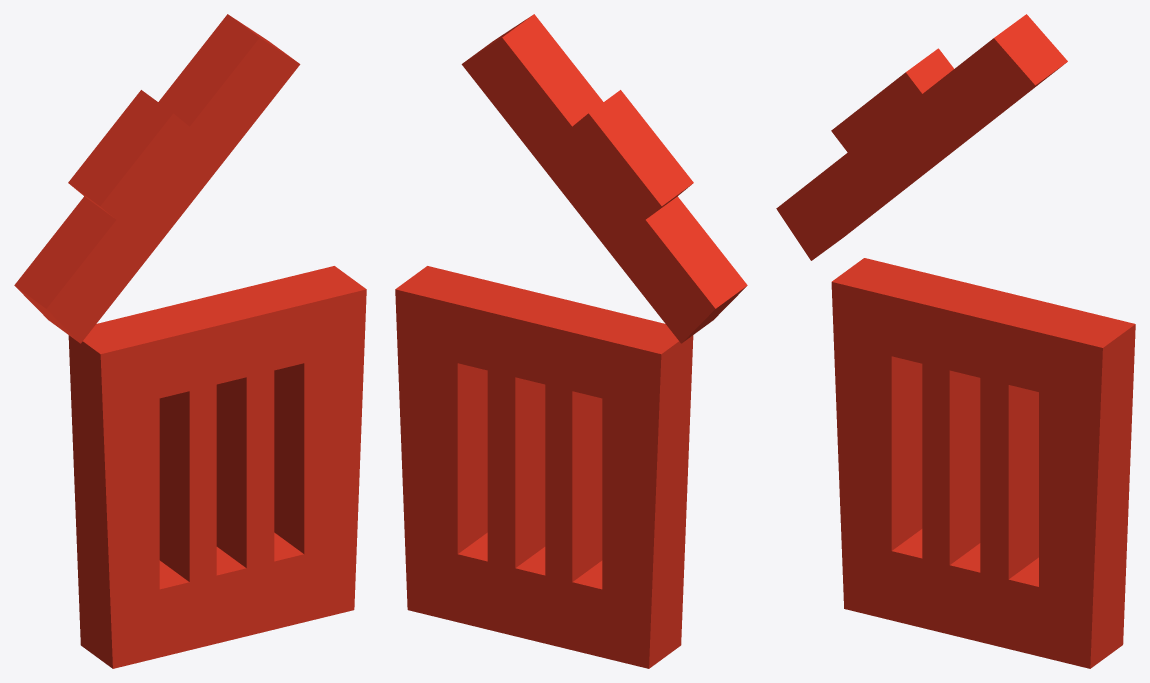
Rendered from Icon_Rubbish_04.fbx.
3 renders of one model, left to right at view 1: azimuth 30°, elevation 25°; view 2: azimuth 150°, elevation 25°; view 3: azimuth 330°, elevation 25°, orthographic.
Visible parts, largest first — view 1: Icon_Rubbish_04; view 2: Icon_Rubbish_04; view 3: Icon_Rubbish_04.
Part boxes in pixels (x1,y1,x2,y2): Icon_Rubbish_04: (14,14,366,668); Icon_Rubbish_04: (395,14,747,668); Icon_Rubbish_04: (776,14,1135,668).
Size of the model in its own units: 54.23 by 96.35 by 9.43.
